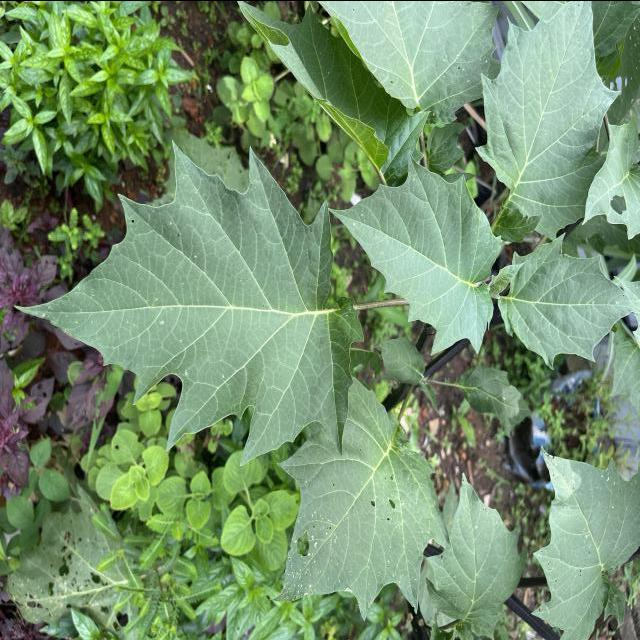Datura metal linn: (12, 134, 368, 470), (267, 370, 455, 622), (330, 148, 506, 358), (529, 442, 640, 640), (495, 228, 640, 372), (424, 470, 530, 640)
